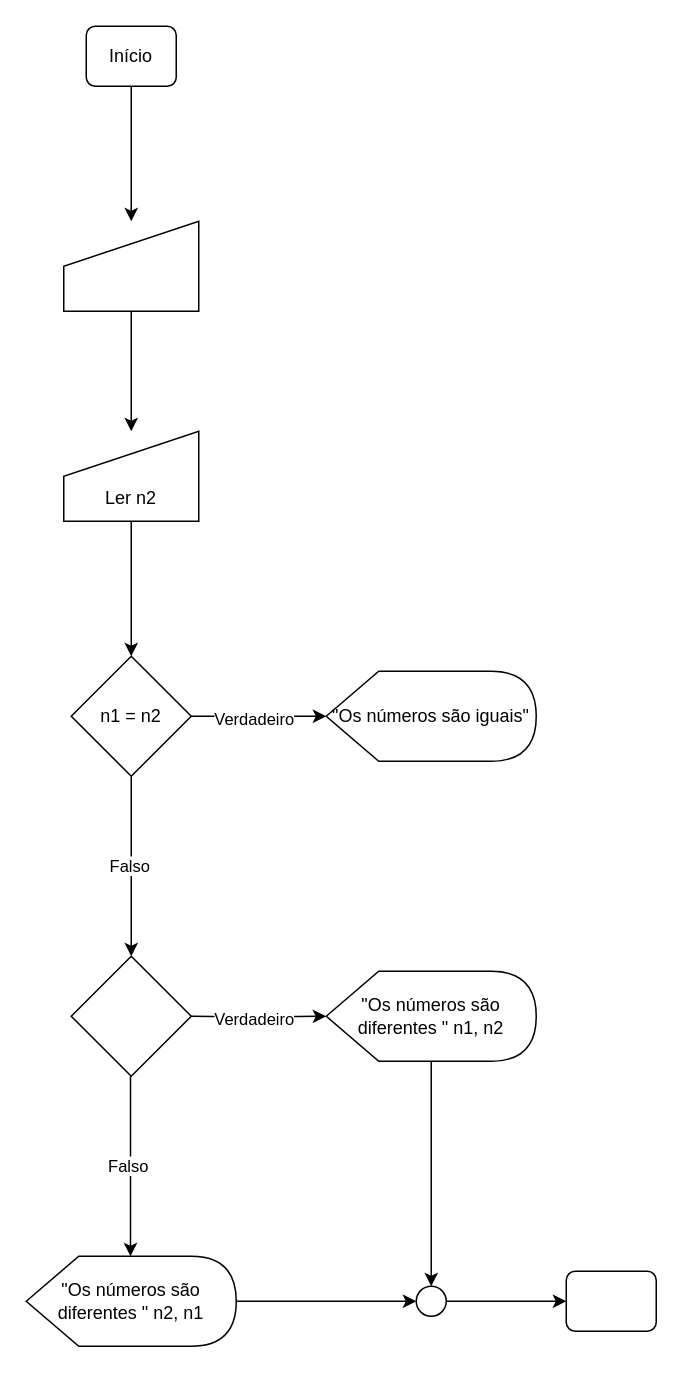
Image size: 683x1373. Some labels were removed from this diagram. Here are the shapes that lost their labels. From the top down, the centre of each, then its label:
At [130,265]: "Ler n1".
At [130,1015]: "n1 > n2".
At [610,1300]: "Fim".
